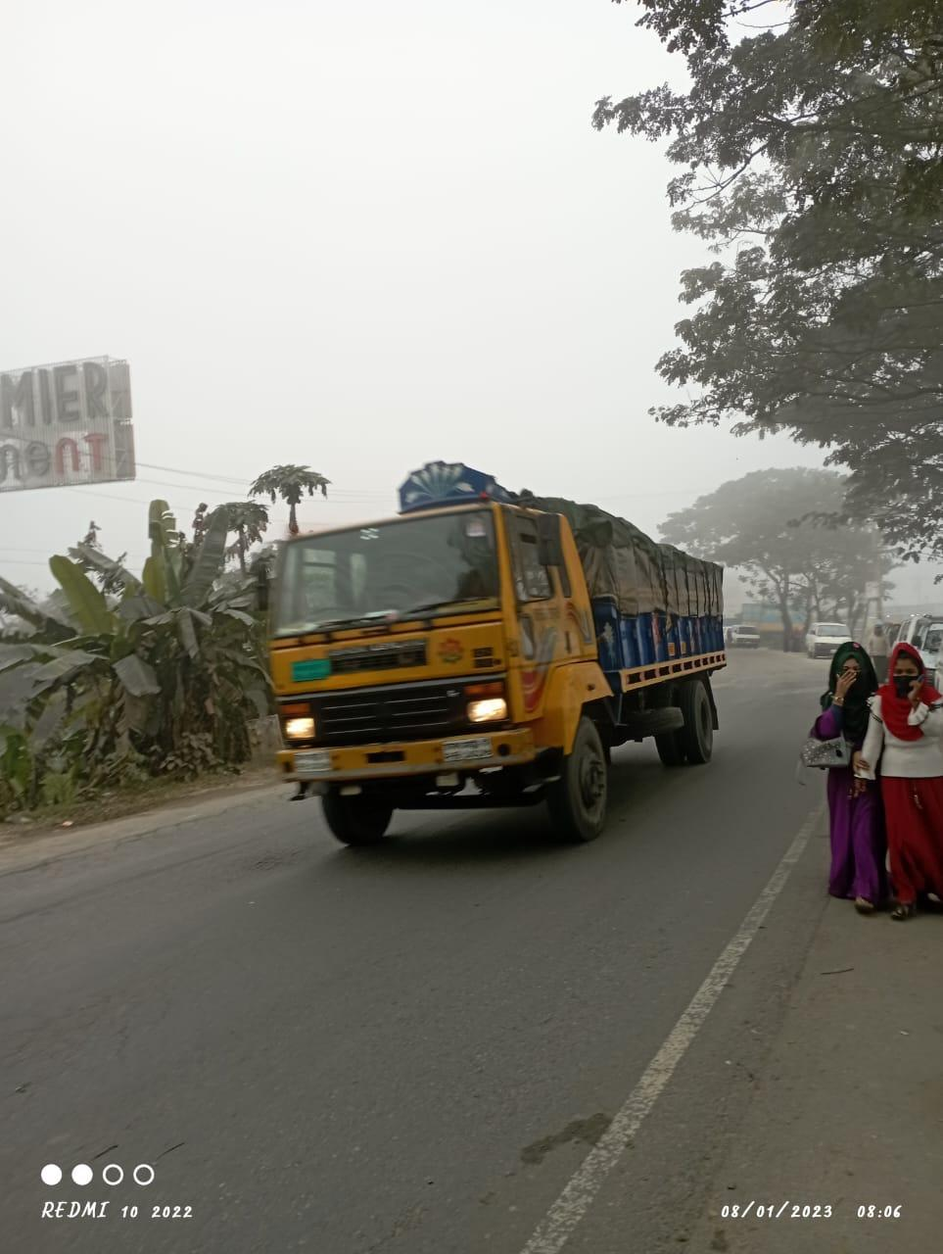Car: (805, 611, 859, 661)
Truck: (237, 458, 734, 830)
